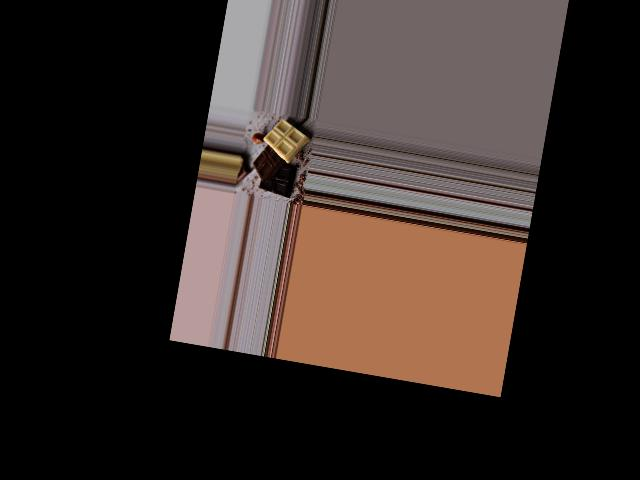chocolate: (247, 115, 308, 202)
